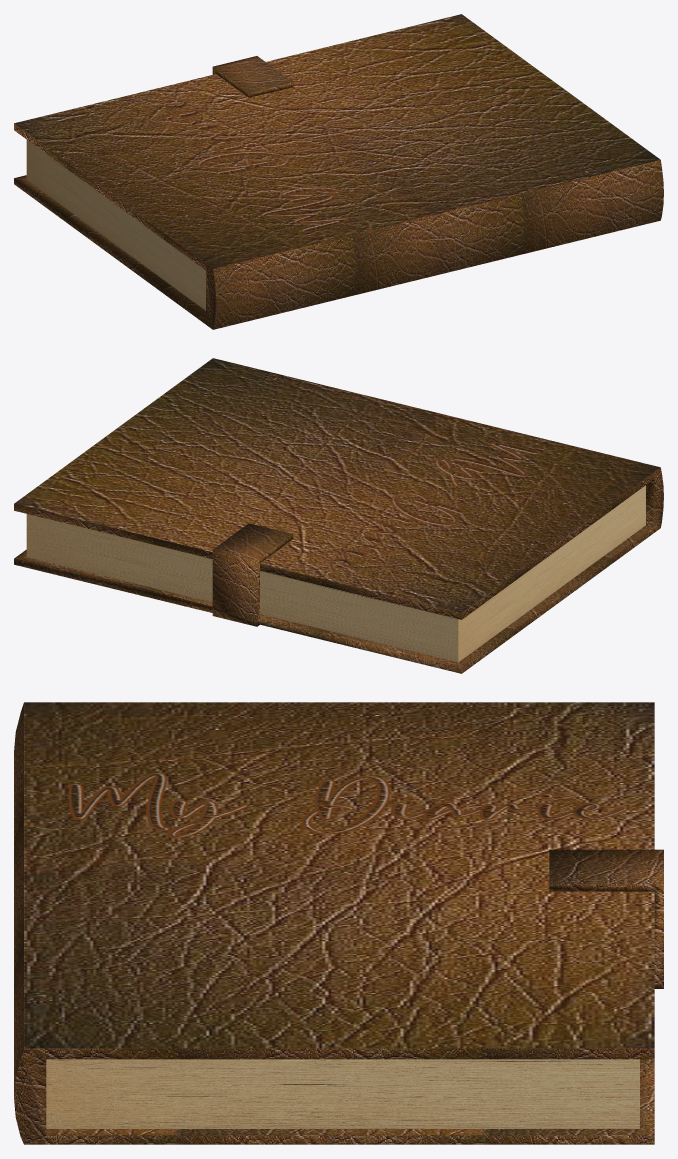
File: journal intime.FBX
3 renders of one model, top to bottom at view 1: azimuth 30°, elevation 25°; view 2: azimuth 150°, elevation 25°; view 3: azimuth 270°, elevation 25°, orthographic. The views are drawn at different scales.
Visible parts, largest first — view 1: couverture, côte, pages; view 2: couverture, pages, côte; view 3: couverture, pages, côte.
Boxes of the visible parts, x1,y1,x2,y2 form: couverture: [14, 14, 660, 268]; côte: [14, 56, 663, 329]; pages: [26, 140, 205, 310]; couverture: [14, 358, 660, 612]; pages: [26, 485, 645, 662]; côte: [14, 467, 663, 673]; couverture: [24, 702, 654, 1048]; pages: [46, 1059, 639, 1128]; côte: [14, 703, 663, 1144].
Bounding box in the file's own units: 28.75 × 4.06 × 22.82.
